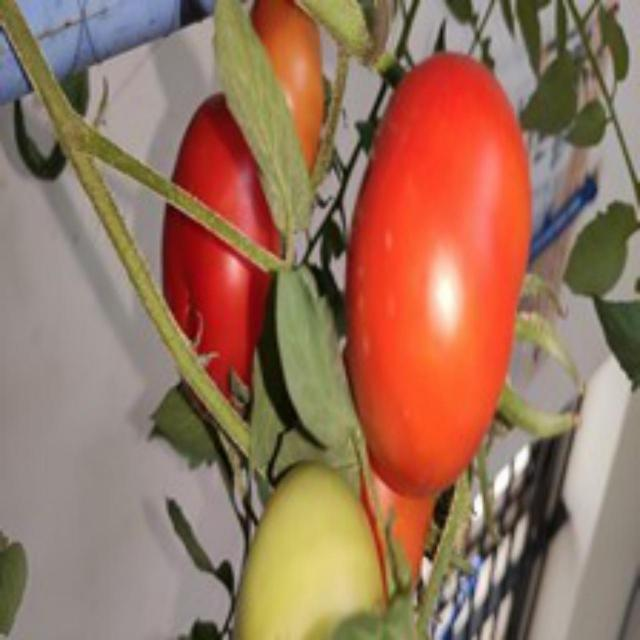tomato: (348, 56, 526, 502), (158, 79, 312, 381)
